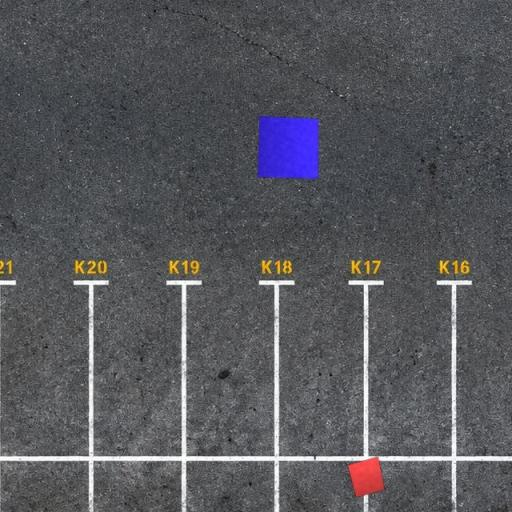BLUE_SQUARE: (258, 116, 318, 179)
RED_SQUARE: (346, 456, 386, 498)
